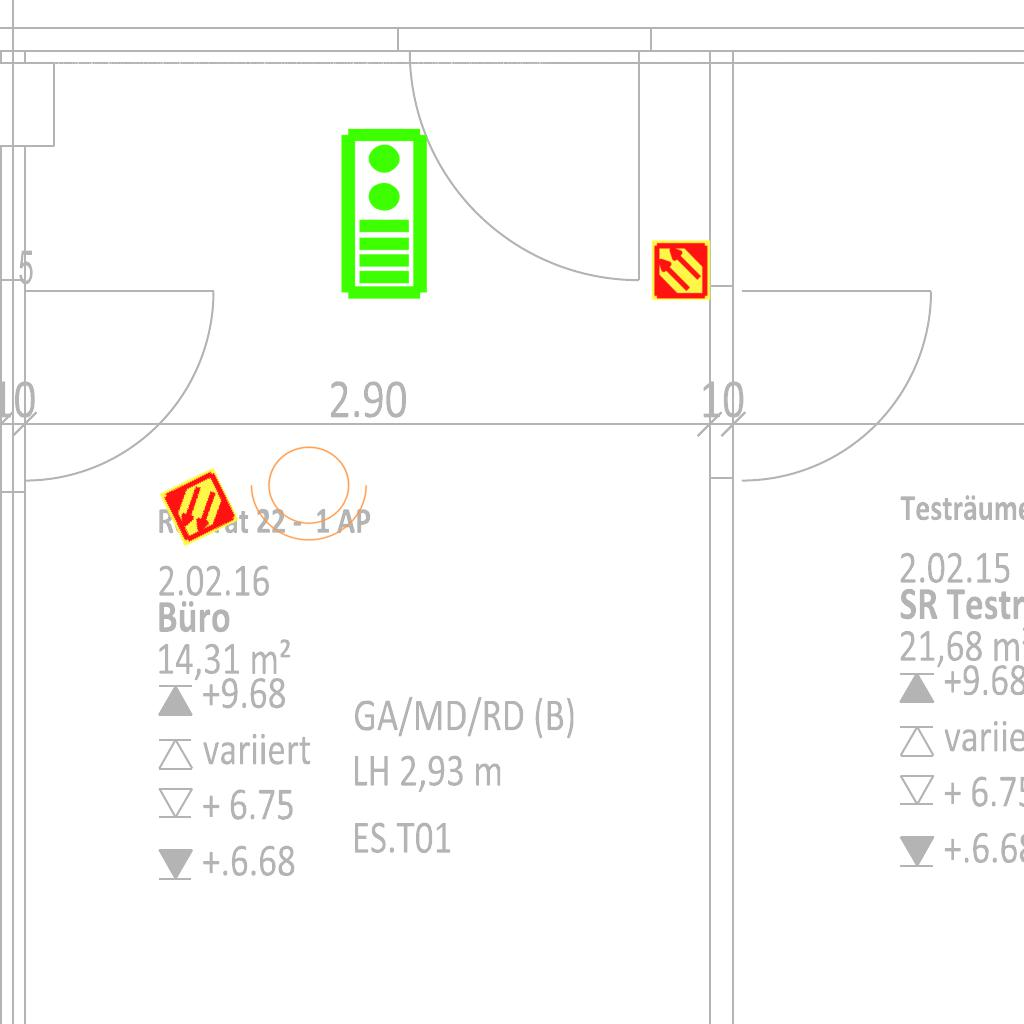ASR_Ansaugrauchmelder: (157, 465, 241, 549), (650, 239, 712, 301)
Gegensprechanlage_mit_Video: (335, 125, 430, 301)
Scheinwerfer_fuer_Alarmbeleuchtung: (246, 434, 378, 546)
